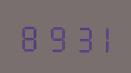eight: (18, 19, 40, 52)
nine: (41, 19, 63, 52)
one: (87, 20, 109, 53)
three: (64, 19, 86, 53)
